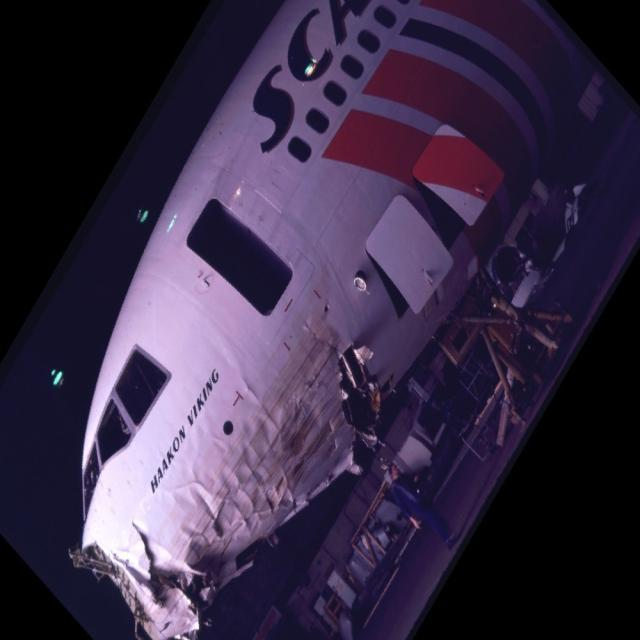crack: (127, 516, 162, 588), (302, 316, 344, 366)
dent: (179, 476, 265, 543), (273, 395, 317, 453)
